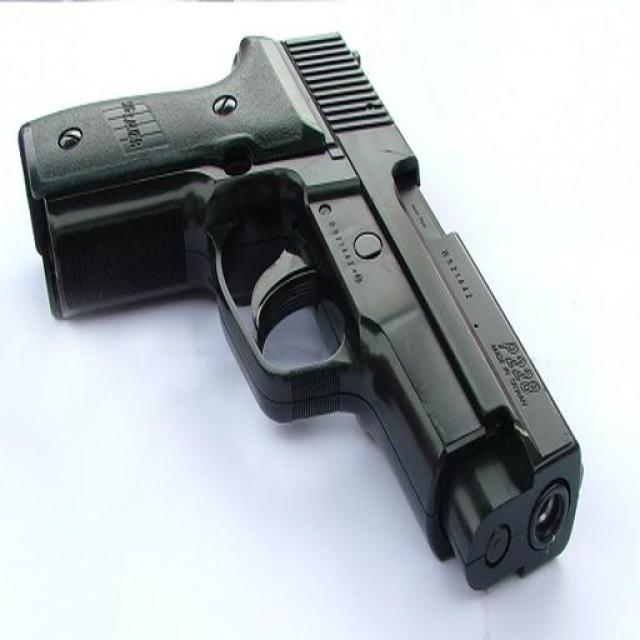pistol: (14, 30, 588, 582)
